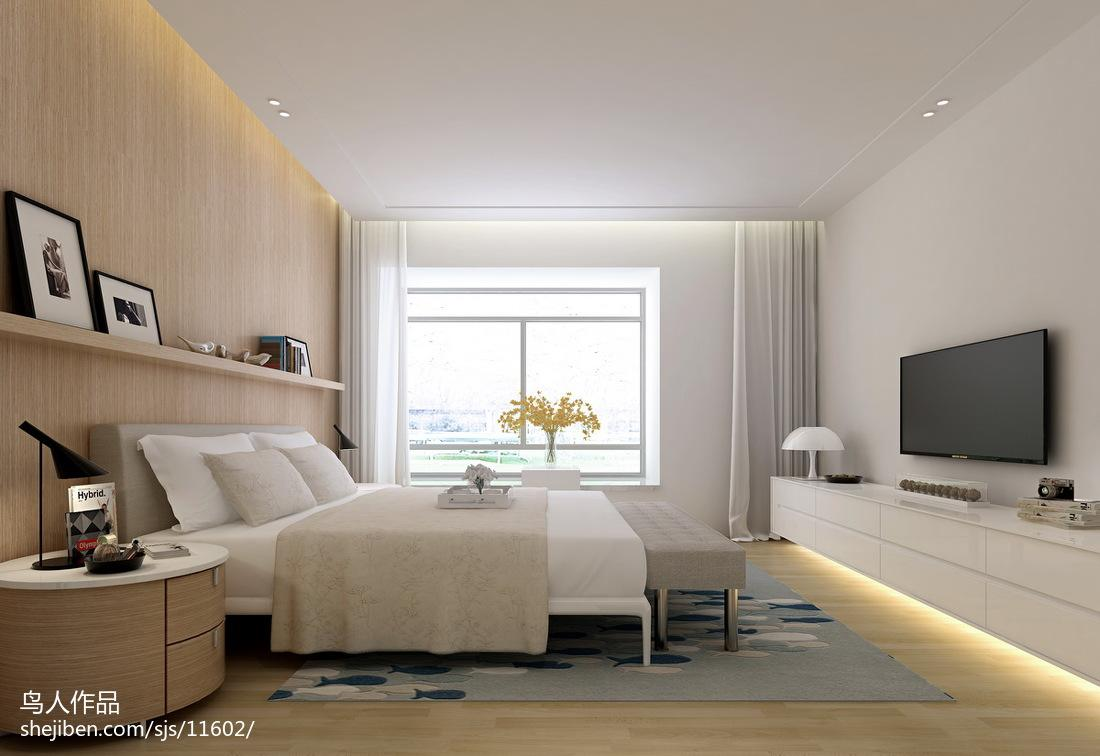床: (153, 478, 669, 666)
枕头: (142, 430, 356, 531)
灯: (787, 425, 848, 482), (920, 102, 949, 122), (270, 101, 295, 122)
